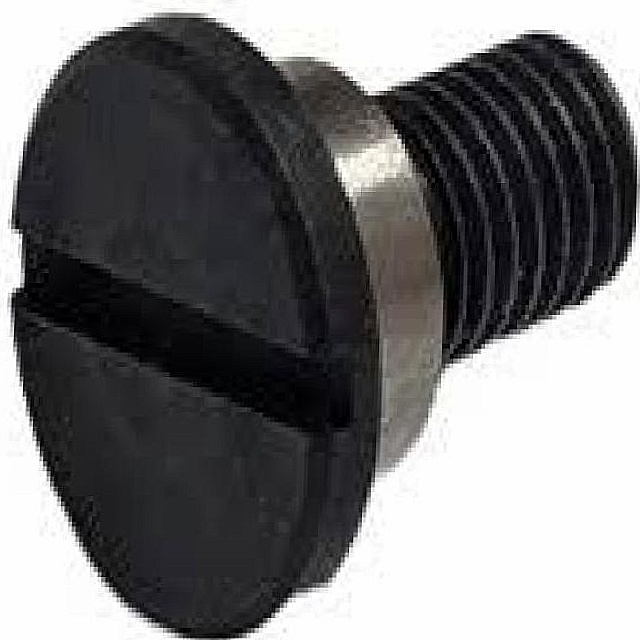duz: (0, 9, 397, 640)
